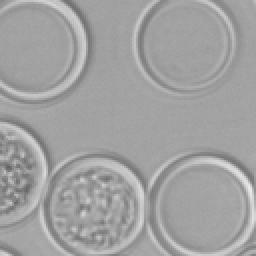picoshell: (146, 152, 254, 254), (38, 154, 144, 254), (132, 0, 234, 94), (0, 0, 86, 100), (0, 122, 46, 224)
